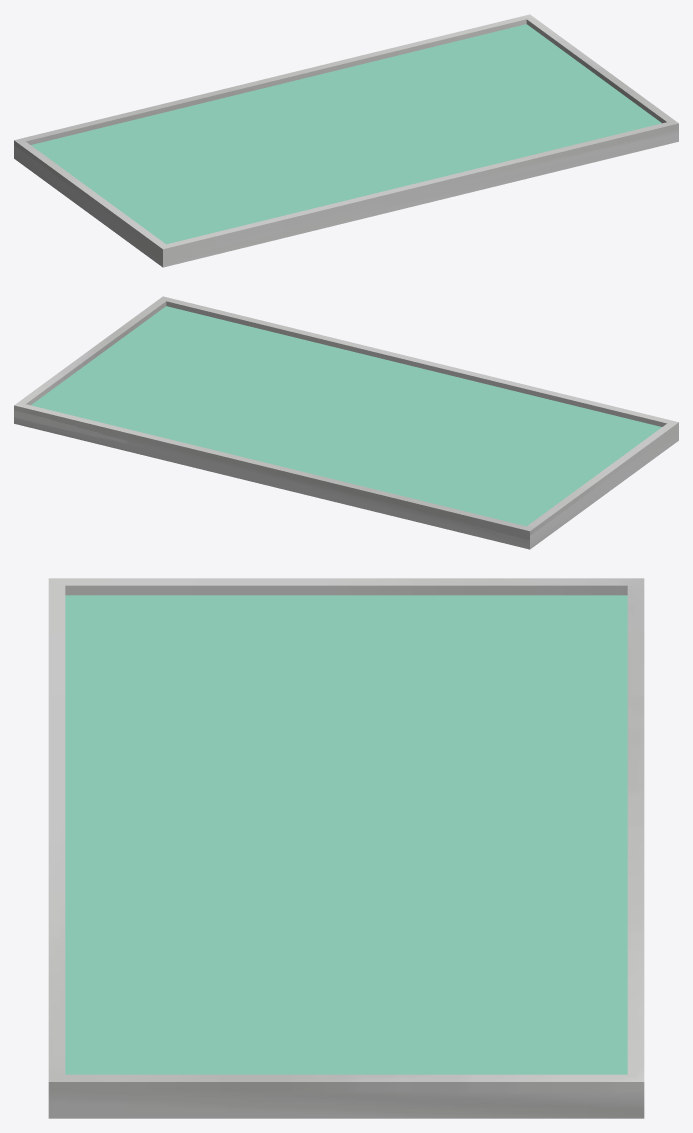
The model's file is FishtankFloor.fbx.
The picture shows the model from 3 angles, top to bottom: view 1: azimuth 30°, elevation 25°; view 2: azimuth 150°, elevation 25°; view 3: azimuth 270°, elevation 25°; orthographic projection. The views are drawn at different scales.
Visible parts, largest first — view 1: pCube204; view 2: pCube204; view 3: pCube204.
Boxes of the visible parts, x1=… form: pCube204: x1=14, y1=14, x2=678, y2=267; pCube204: x1=14, y1=296, x2=678, y2=549; pCube204: x1=48, y1=578, x2=644, y2=1118.
Size of the model in its own units: 1000 by 33.93 by 500.
Materials: 2 (1 with a texture image).
